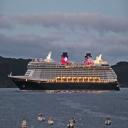cruises: (8, 51, 121, 94)
